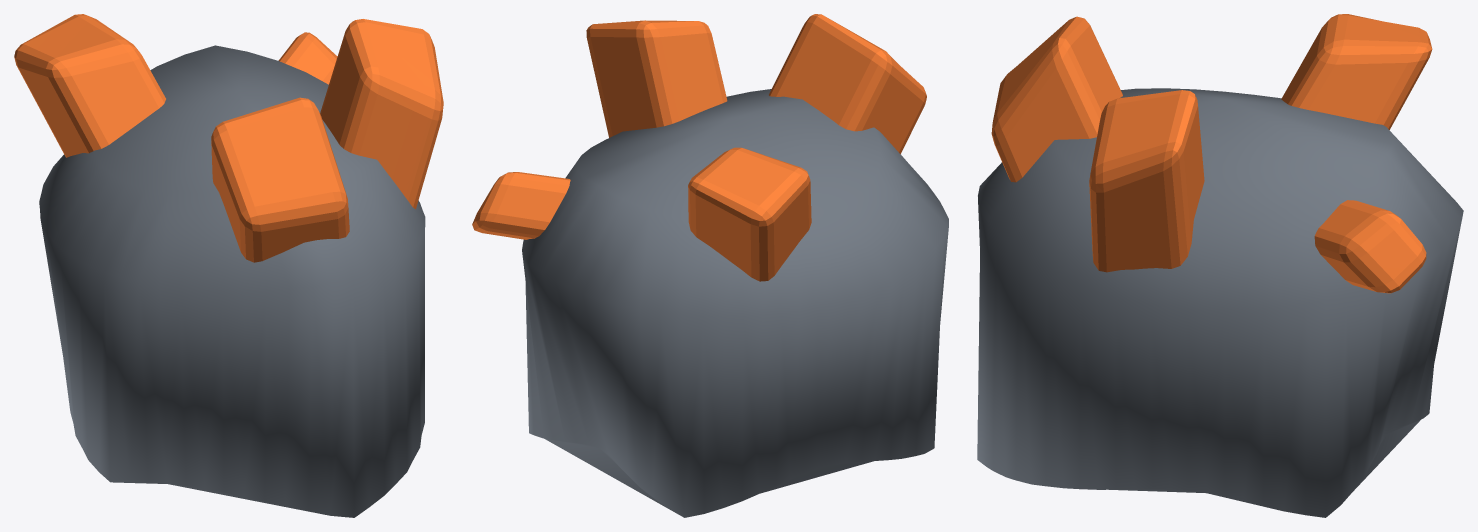
The model's file is copper_ore.glb.
3 renders of one model, left to right at view 1: azimuth 30°, elevation 25°; view 2: azimuth 150°, elevation 25°; view 3: azimuth 270°, elevation 25°, orthographic. The views are drawn at different scales.
Parts seen in each view (by area): view 1: Rock, Ore; view 2: Rock, Ore; view 3: Rock, Ore.
Part boxes in pixels (x1,y1,x2,y2): Rock: (39,45,425,517); Ore: (14,14,443,262); Rock: (522,89,948,517); Ore: (472,14,926,281); Rock: (977,88,1463,517); Ore: (991,14,1432,293).
Size of the model in its own units: 2.57 by 2.73 by 2.86.
